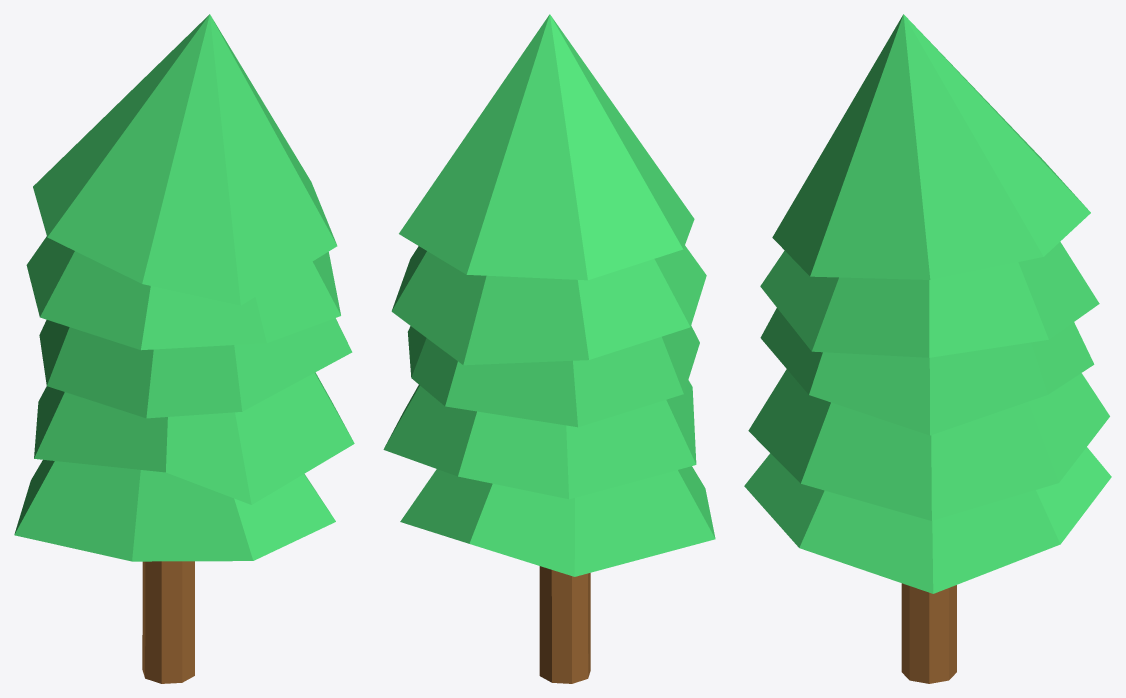
The model's file is agac2.fbx.
3 renders of one model, left to right at view 1: azimuth 30°, elevation 25°; view 2: azimuth 150°, elevation 25°; view 3: azimuth 270°, elevation 25°, orthographic. The views are drawn at different scales.
Parts seen in each view (by area): view 1: ağaç; view 2: ağaç; view 3: ağaç.
Boxes of the visible parts, x1=… form: ağaç: x1=14, y1=14, x2=354, y2=683; ağaç: x1=383, y1=14, x2=715, y2=683; ağaç: x1=744, y1=14, x2=1111, y2=683.
Size of the model in its own units: 1.91 by 3.79 by 1.88.
